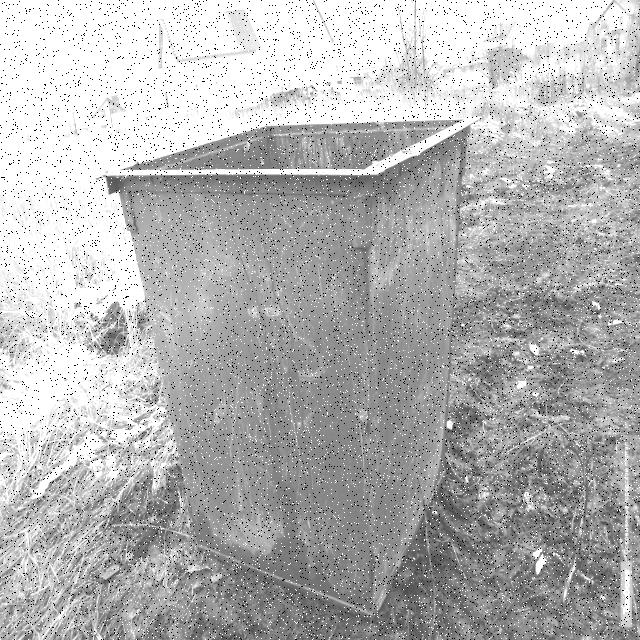Trashcan: (91, 50, 494, 630)
